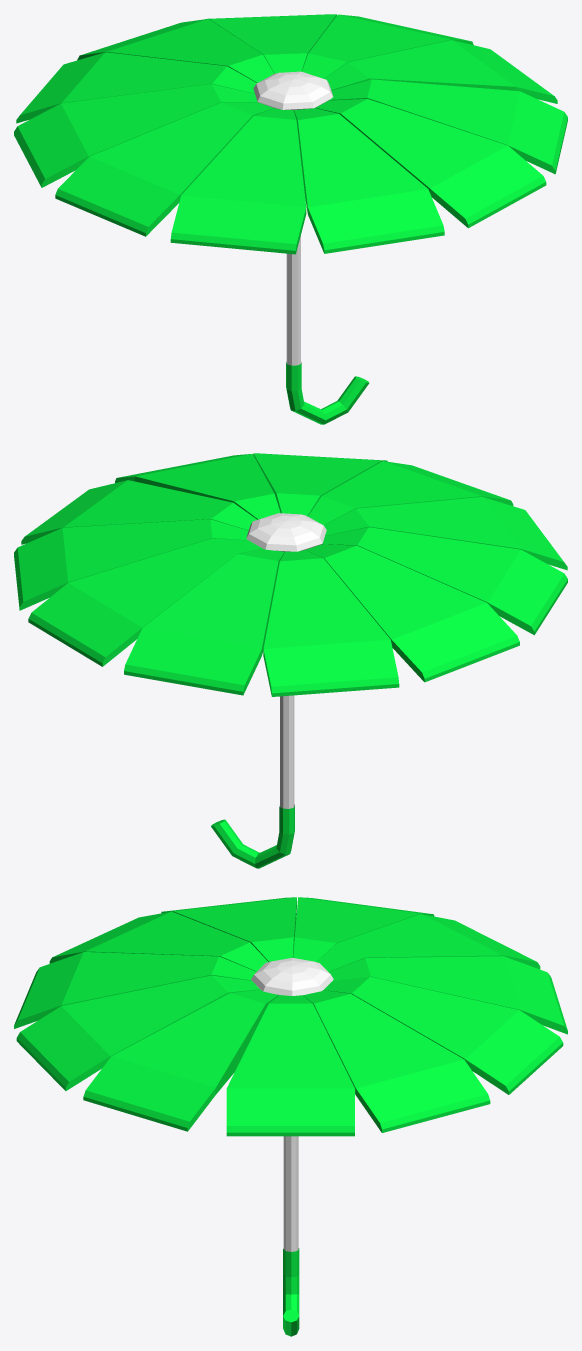
File: Umbrella_4.fbx
The picture shows the model from 3 angles, top to bottom: view 1: azimuth 30°, elevation 25°; view 2: azimuth 150°, elevation 25°; view 3: azimuth 270°, elevation 25°; orthographic projection.
Parts seen in each view (by area): view 1: Umbrella; view 2: Umbrella; view 3: Umbrella.
Part boxes in pixels (bbox=[...]): Umbrella: bbox=[14, 14, 567, 424]; Umbrella: bbox=[14, 453, 567, 868]; Umbrella: bbox=[14, 897, 567, 1336].
Size of the model in its own units: 5.91 by 4.19 by 5.99.
